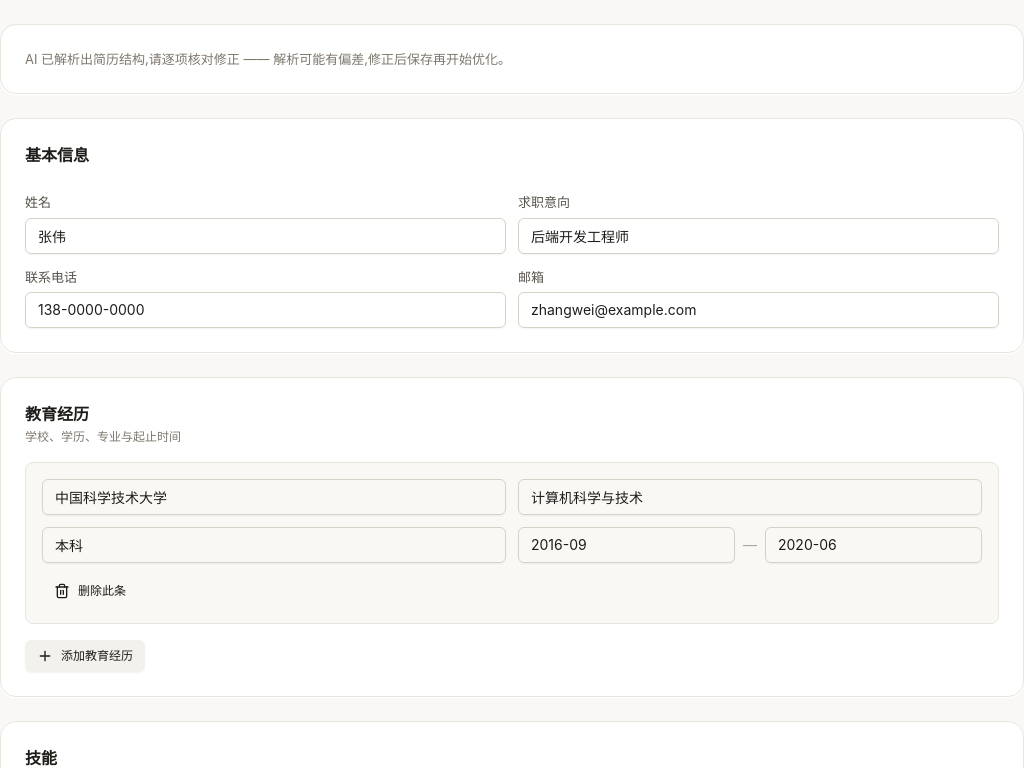
ResumeReview › 编辑基本信息后「保存核对结果」:saveParsedData 载荷为修正后的数据,显示已保存
Replace the text in the field labelled "姓名" with "张伟(已核对)" at (266, 236), box [25,218,506,254]
(page scrolled)
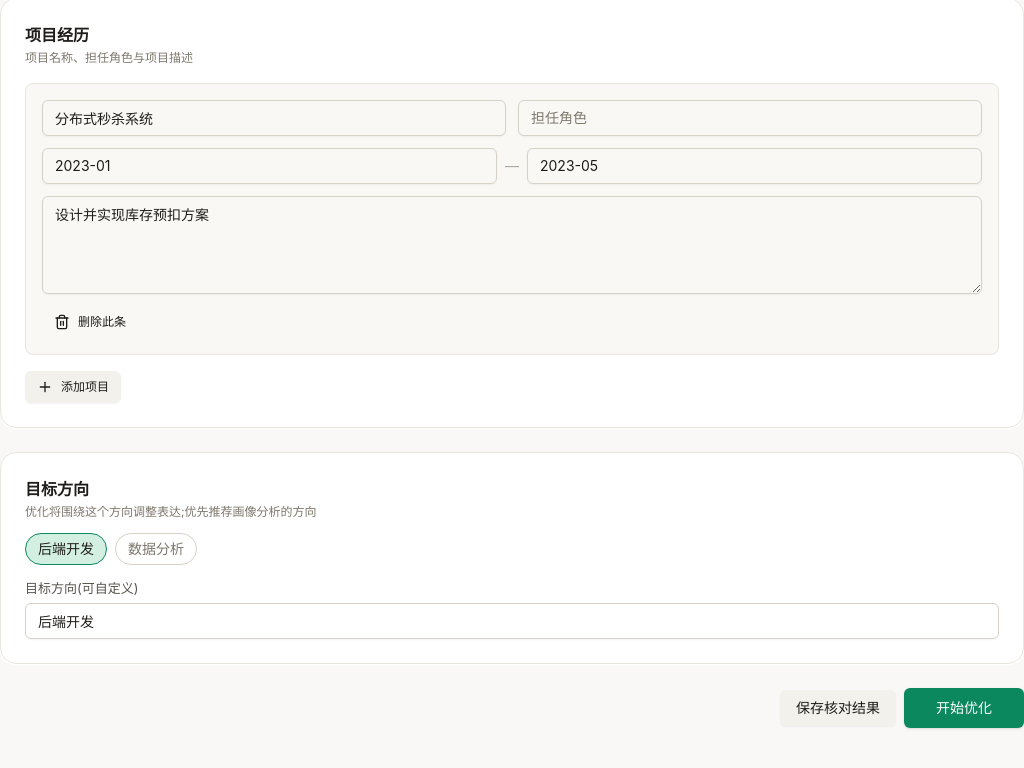
Click the button "保存核对结果".
click(838, 708)  # box [780,690,896,726]
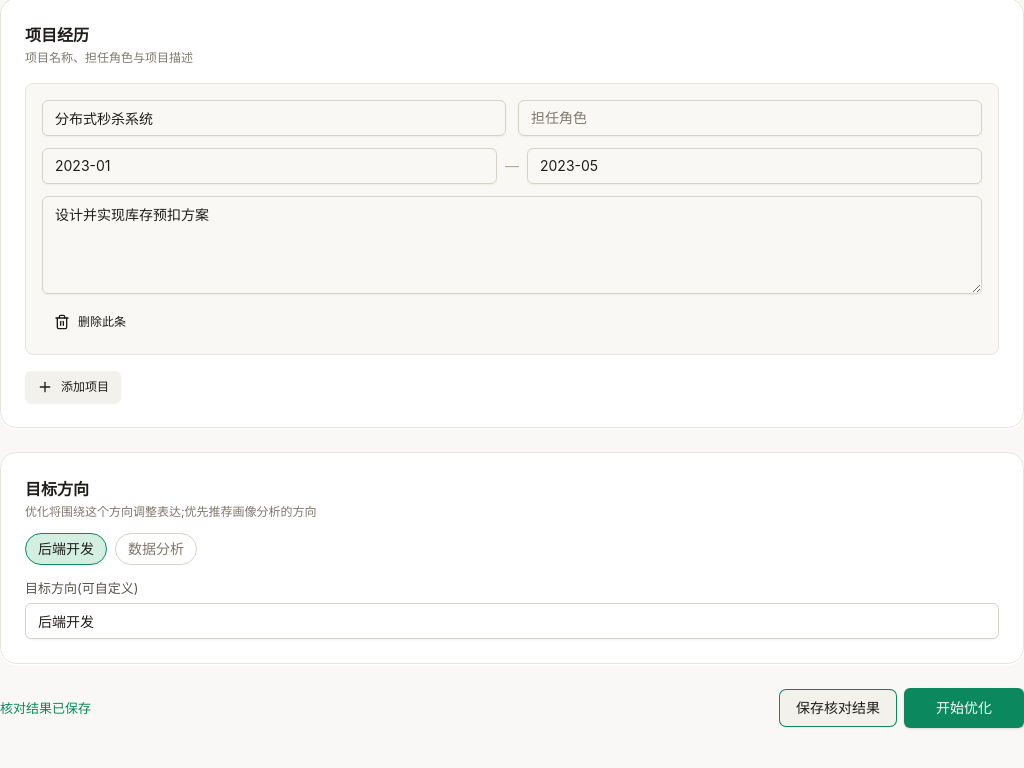
Expected: the text "核对结果已保存" is shown, [0,698,91,718]
